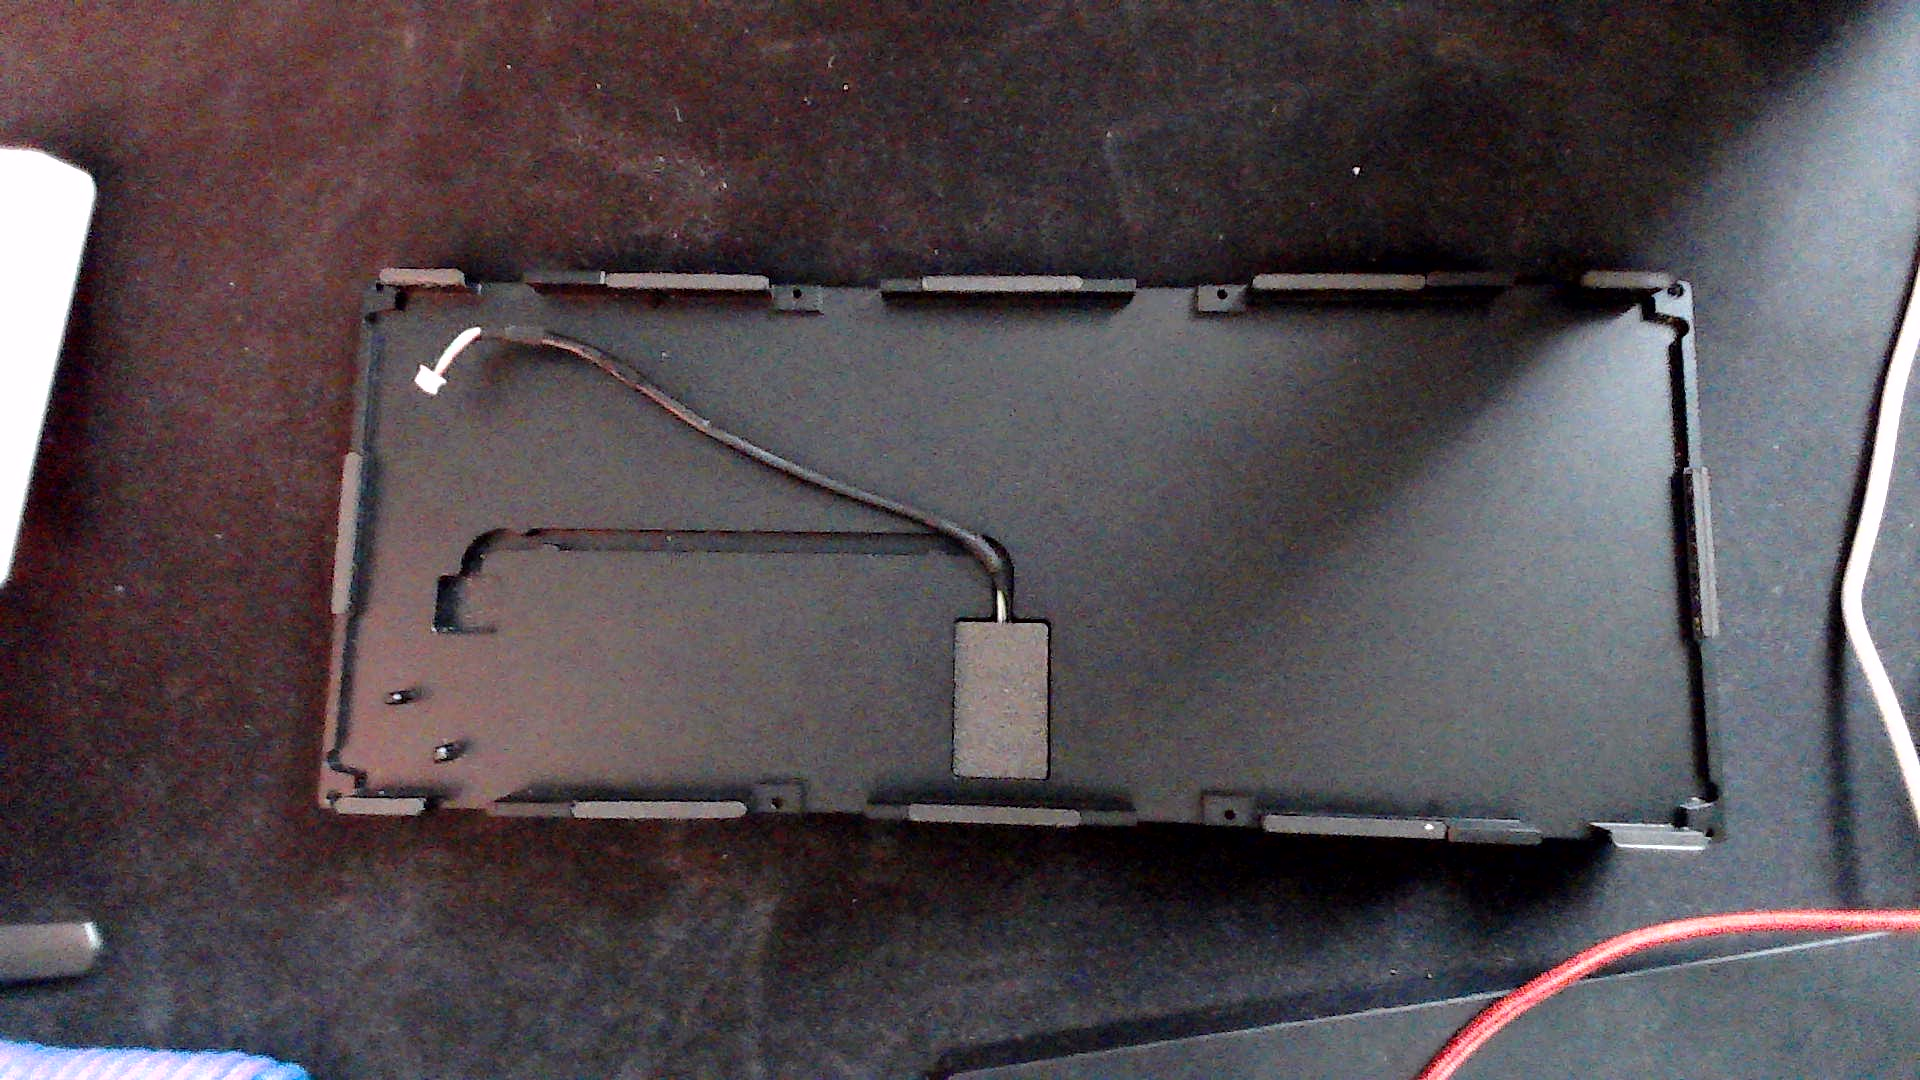case: (299, 206, 1772, 877)
